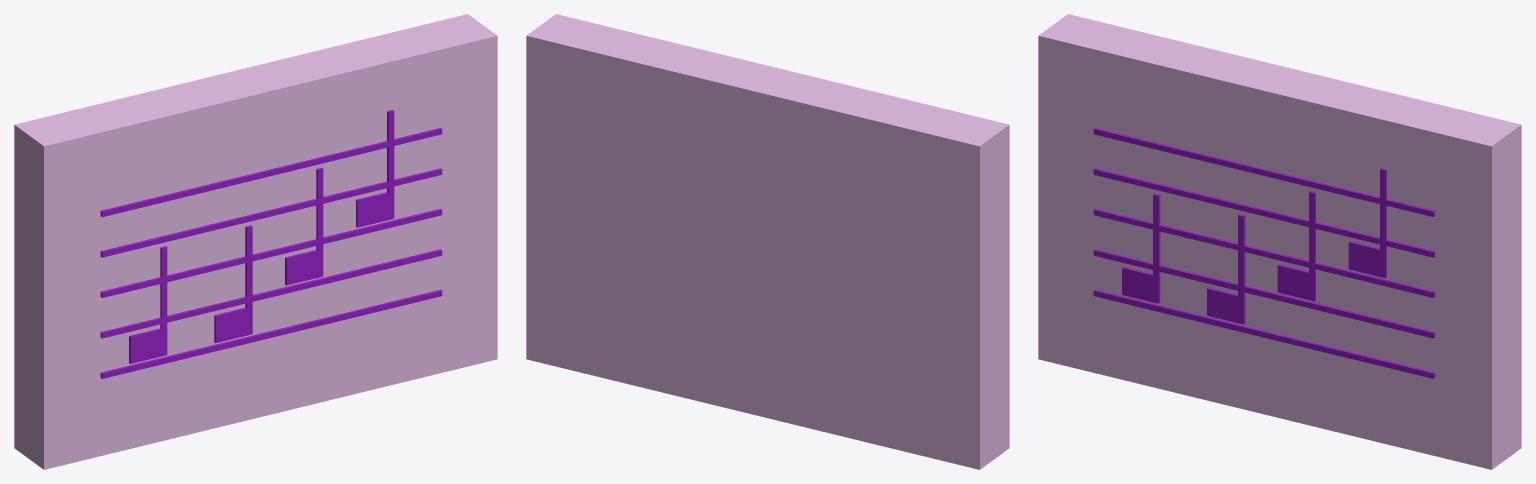
File: CurseSong.fbx
3 views of the same model, side by side, from view 1: azimuth 30°, elevation 25°; view 2: azimuth 150°, elevation 25°; view 3: azimuth 330°, elevation 25° (orthographic).
Parts seen in each view (by area): view 1: Cube.001, Cube.003; view 2: Cube.001; view 3: Cube.001, Cube.003.
Part boxes in pixels (x1=…): Cube.001: x1=14, y1=14, x2=497, y2=469; Cube.003: x1=100, y1=110, x2=442, y2=378; Cube.001: x1=526, y1=14, x2=1009, y2=469; Cube.001: x1=1038, y1=14, x2=1521, y2=469; Cube.003: x1=1093, y1=128, x2=1435, y2=378.
Bounding box in the file's own units: 176 × 120 × 21.
